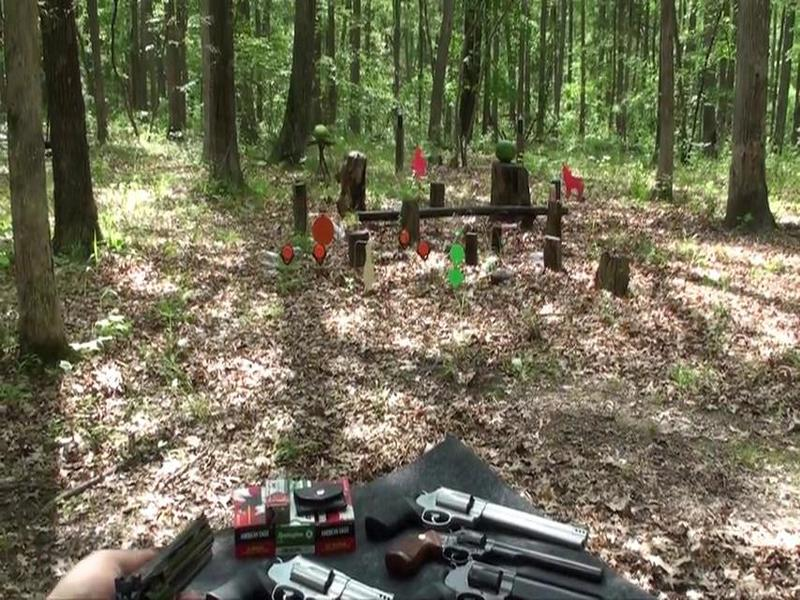Revolver: (97, 499, 227, 600)
